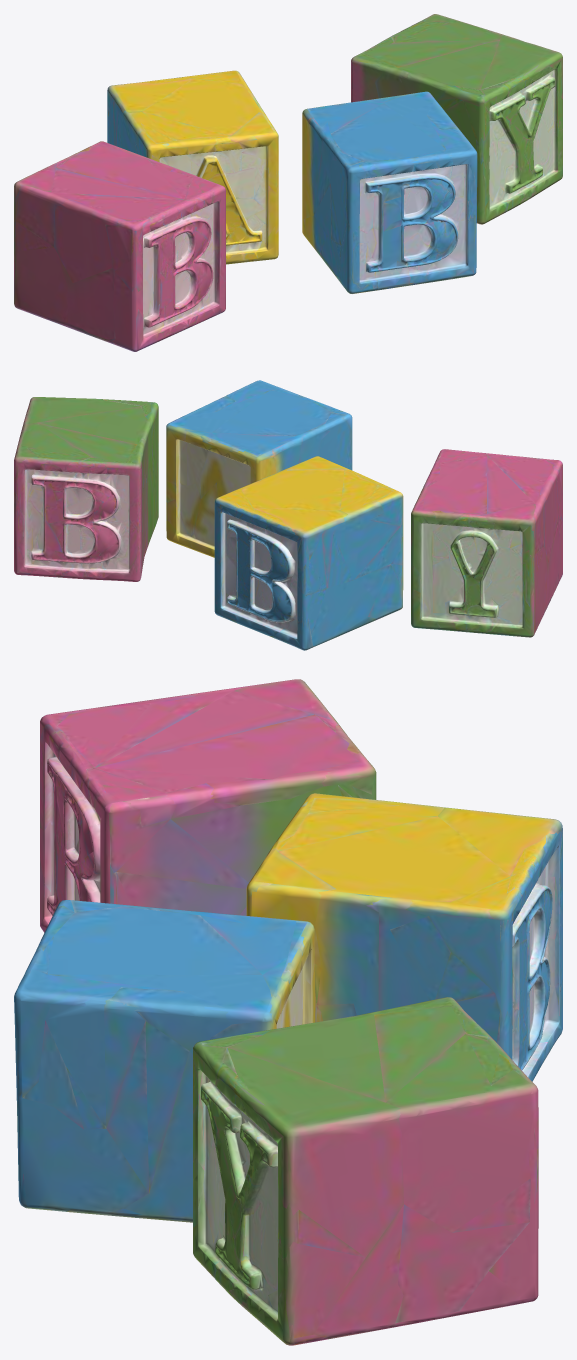
The picture shows the model from 3 angles, top to bottom: view 1: azimuth 30°, elevation 25°; view 2: azimuth 150°, elevation 25°; view 3: azimuth 270°, elevation 25°; orthographic projection. The views are drawn at different scales.
Size of the model in its own units: 1.9 by 0.4255 by 0.9708.
1 material, 1 textured.
